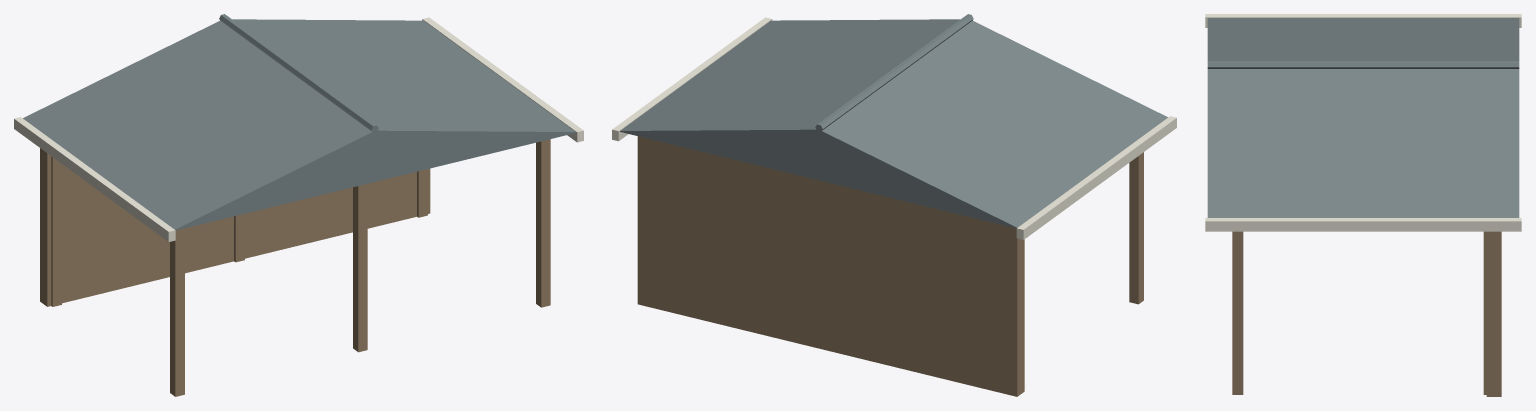
3 views of the same model, side by side, from view 1: azimuth 30°, elevation 25°; view 2: azimuth 150°, elevation 25°; view 3: azimuth 270°, elevation 25° (orthographic). The views are drawn at different scales.
Bounding box in the file's own units: 9.76 × 5.26 × 6.3.
